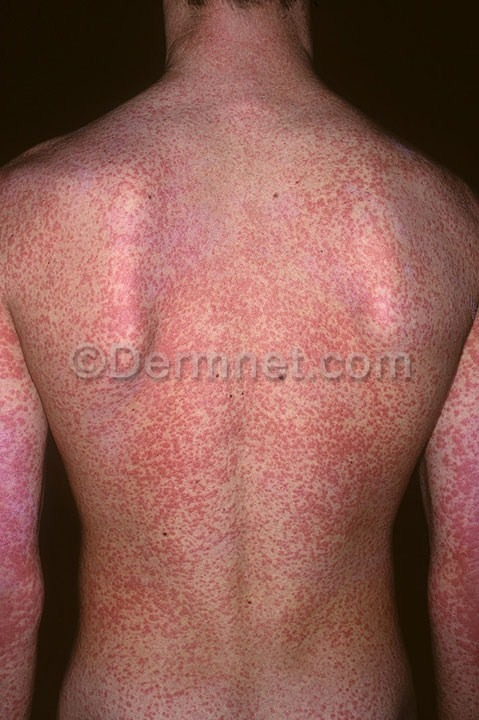Psoriasis: (44, 162, 404, 707), (182, 26, 301, 154), (433, 344, 479, 671), (1, 216, 29, 713)
